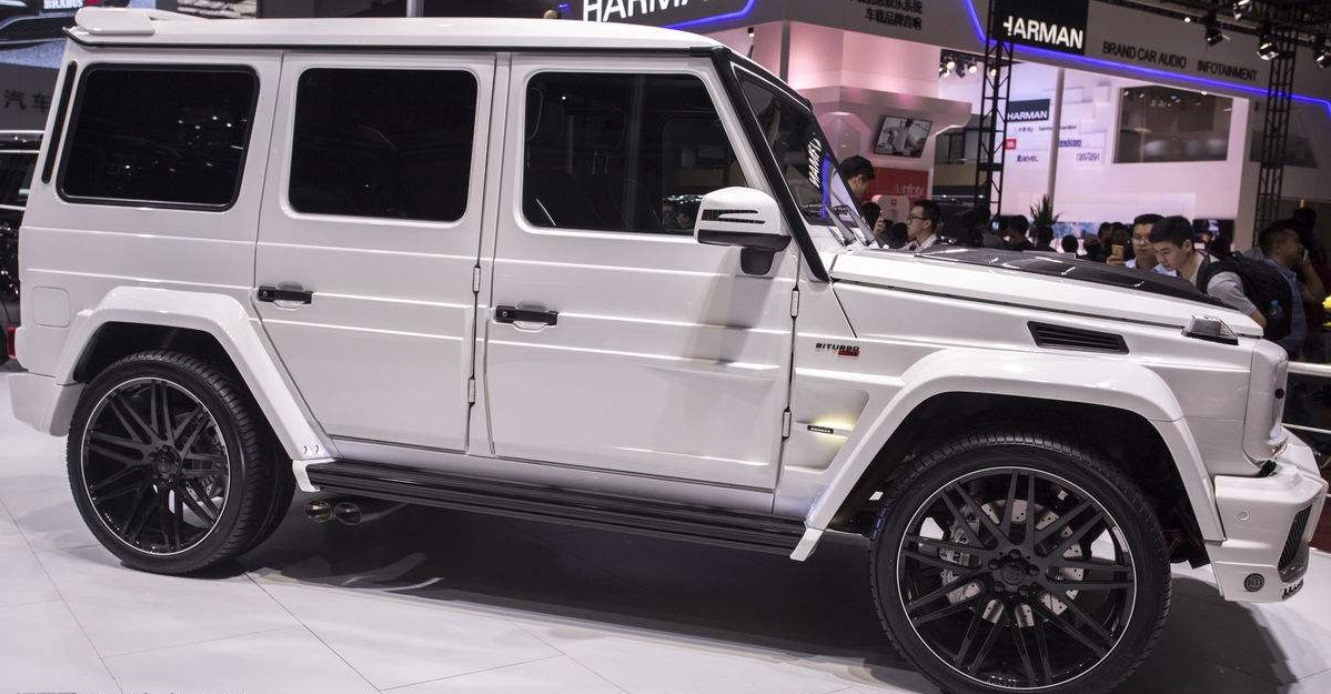racing car: (16, 23, 1303, 670)
